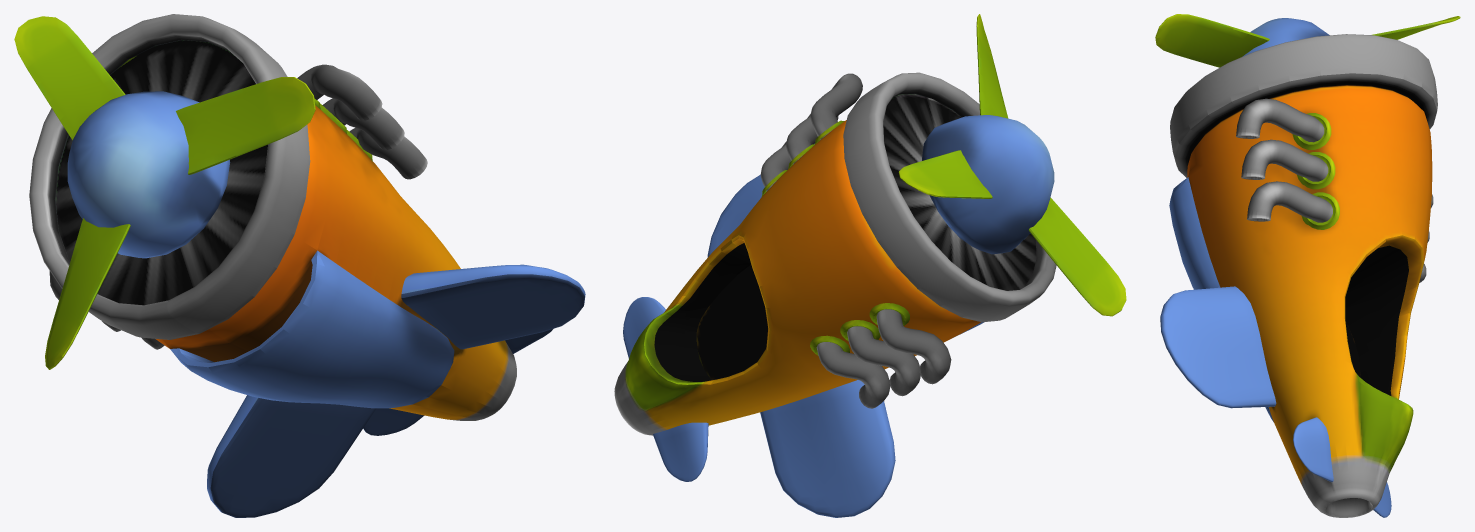
Rendered from seymour_plane_triangles.dae.
3 renders of one model, left to right at view 1: azimuth 30°, elevation 25°; view 2: azimuth 150°, elevation 25°; view 3: azimuth 270°, elevation 25°, orthographic. The views are drawn at different scales.
Parts seen in each view (by area): view 1: plane, prop; view 2: plane, prop; view 3: plane, prop.
Part boxes in pixels (x1,y1,x2,y2): plane: (29,14,585,517); prop: (14,16,315,369); plane: (614,72,1056,517); prop: (898,14,1126,316); plane: (1160,18,1437,517); prop: (1155,14,1460,67).
Size of the model in its own units: 211 by 126 by 196.
2 materials, 2 textured.
